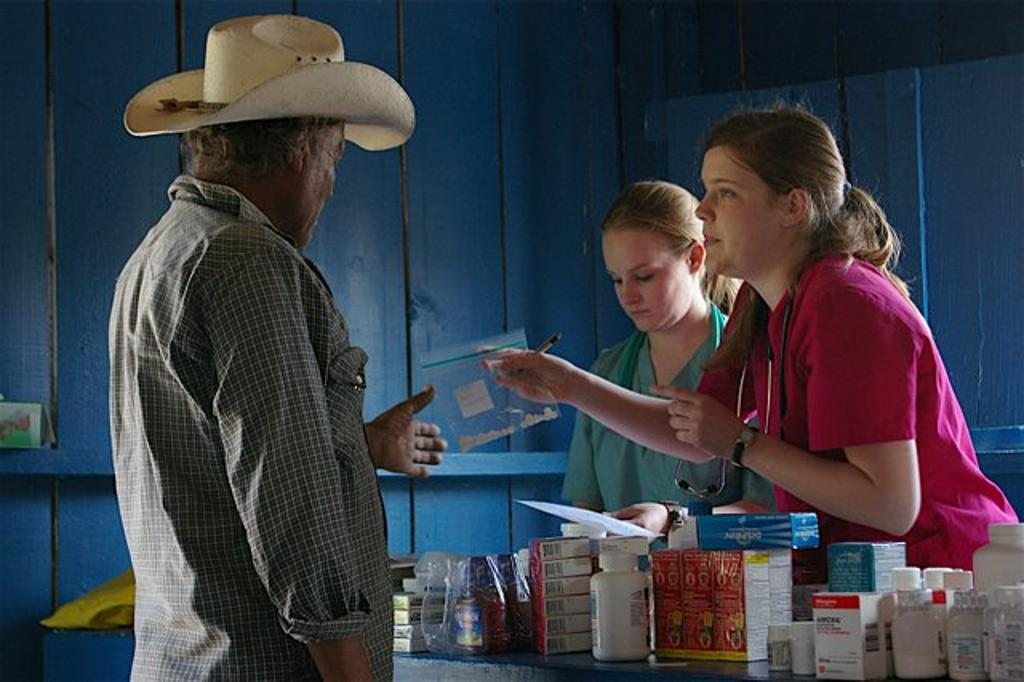face: (262, 102, 346, 252), (698, 144, 774, 282), (610, 222, 682, 334)
